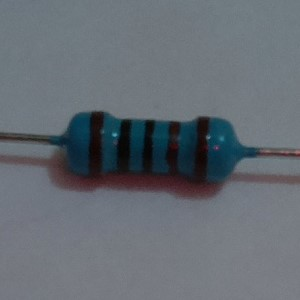black_band: (115, 117, 133, 173), (139, 118, 157, 173)
brown_band: (85, 109, 106, 178), (193, 115, 210, 185), (164, 119, 182, 176)
